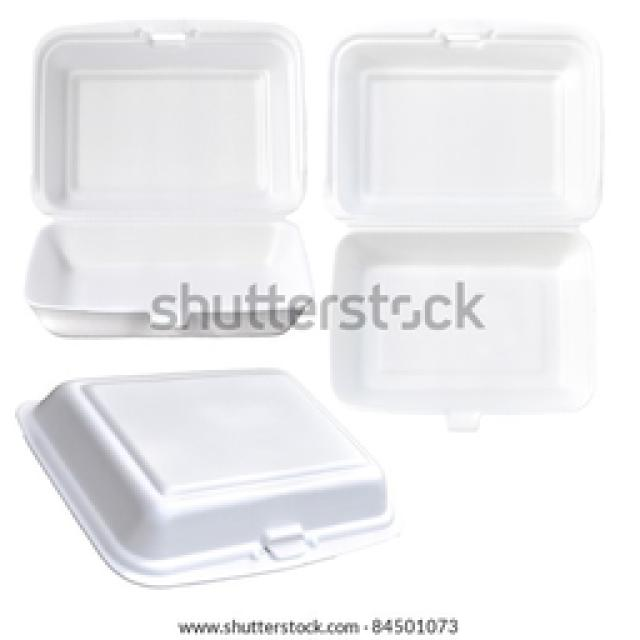styrofoam: (325, 22, 600, 410), (25, 20, 312, 335), (20, 368, 392, 582)
